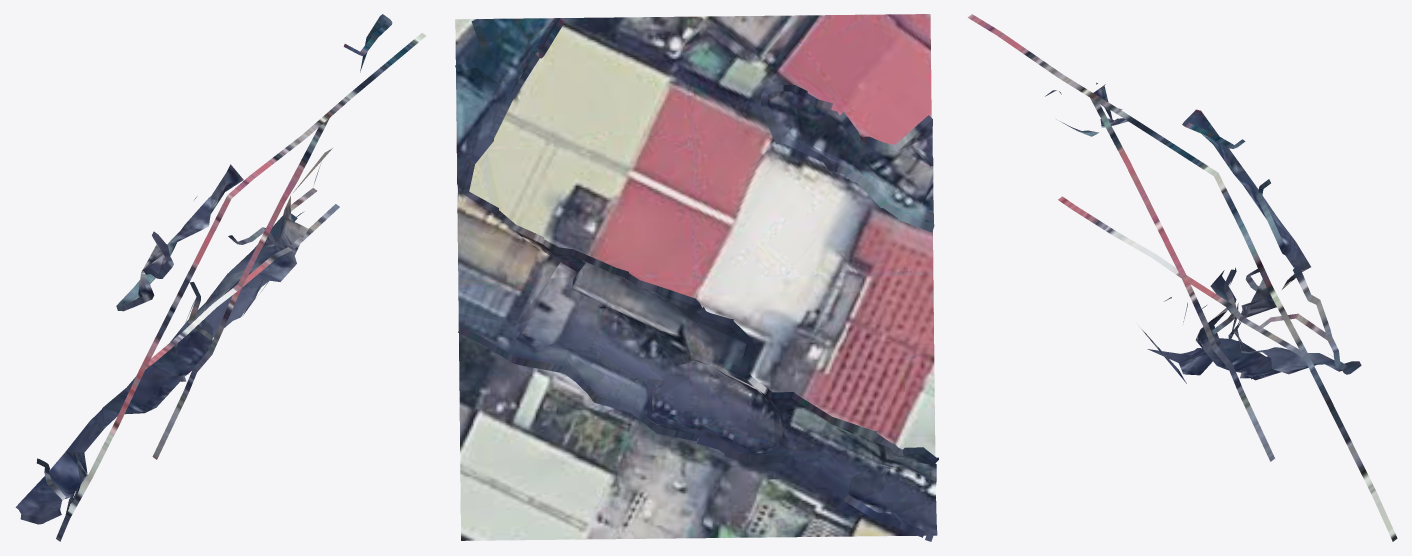
The picture shows the model from 3 angles, left to right: view 1: azimuth 30°, elevation 25°; view 2: azimuth 150°, elevation 25°; view 3: azimuth 270°, elevation 25°; orthographic projection. The views are drawn at different scales.
Bounding box in the file's own units: 39.54 × 36.5 × 32.67.
Materials: 1 (1 with a texture image).
